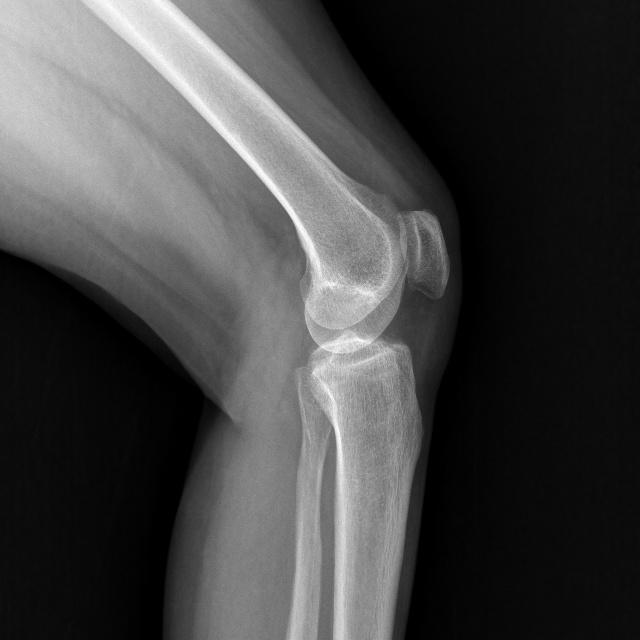Knee: (292, 207, 449, 404)
